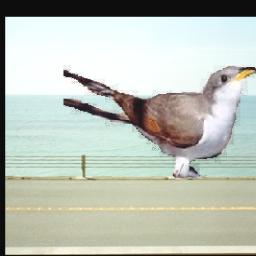Cuckoo: (63, 65, 256, 179)
